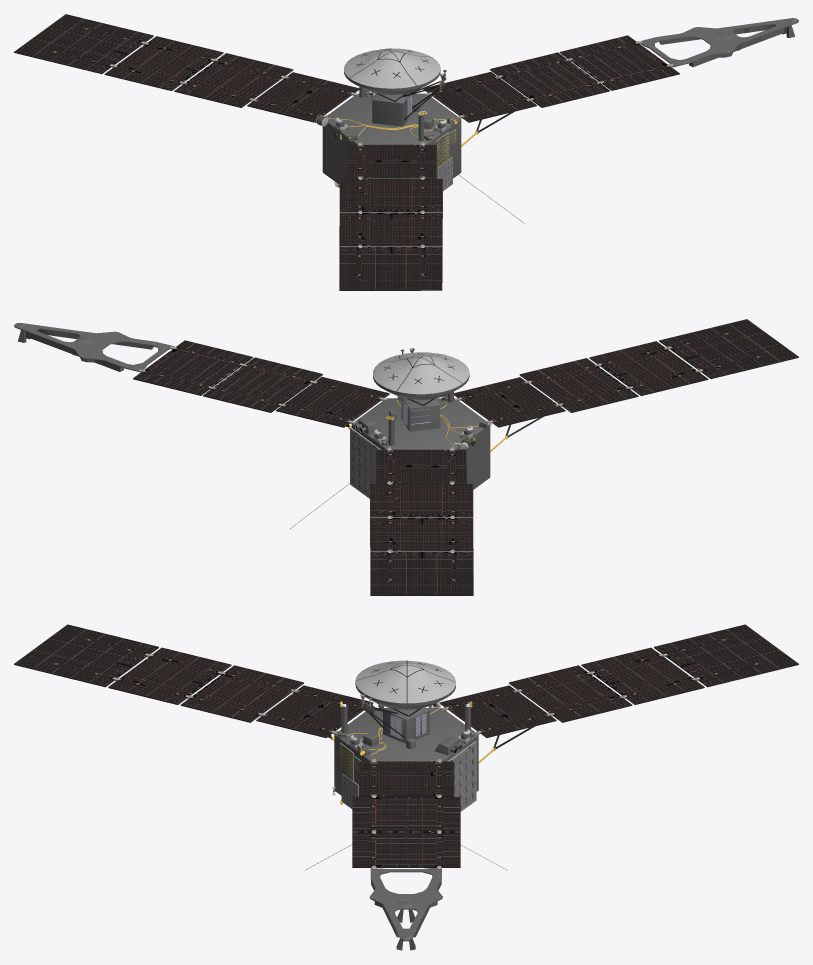
File: juno.glb
3 views of the same model, one above another, from view 1: azimuth 30°, elevation 25°; view 2: azimuth 150°, elevation 25°; view 3: azimuth 270°, elevation 25° (orthographic). The views are drawn at different scales.
Visible parts, largest first — view 1: shiny_panels, _body, dish_top, solar_panels, tex_01, black_krinkle, silver_foil, dish_bottom; view 2: shiny_panels, _body, dish_top, tex_01, solar_panels, black_krinkle, silver_foil; view 3: shiny_panels, tex_01, _body, dish_top, solar_panels, black_krinkle, silver_foil.
Part boxes in pixels (box(x1,y1,x2,y2)): shiny_panels: box(14, 14, 679, 289); _body: box(322, 93, 461, 184); dish_top: box(344, 48, 440, 88); solar_panels: box(639, 18, 798, 67); tex_01: box(110, 25, 794, 247); black_krinkle: box(14, 36, 679, 290); silver_foil: box(335, 87, 452, 141); dish_bottom: box(344, 69, 440, 94); shiny_panels: box(133, 319, 798, 594); _body: box(351, 398, 490, 489); dish_top: box(373, 352, 469, 394); tex_01: box(17, 330, 702, 552); solar_panels: box(14, 323, 173, 371); black_krinkle: box(133, 340, 798, 595); silver_foil: box(354, 391, 490, 445); shiny_panels: box(14, 624, 798, 866); tex_01: box(112, 653, 699, 950); _body: box(334, 708, 478, 795); dish_top: box(355, 660, 455, 703); solar_panels: box(369, 868, 442, 941); black_krinkle: box(14, 647, 798, 867); silver_foil: box(338, 704, 473, 800).
Bounding box in the file's own units: 17.65 × 4.26 × 18.54.
16 materials, 8 textured.
